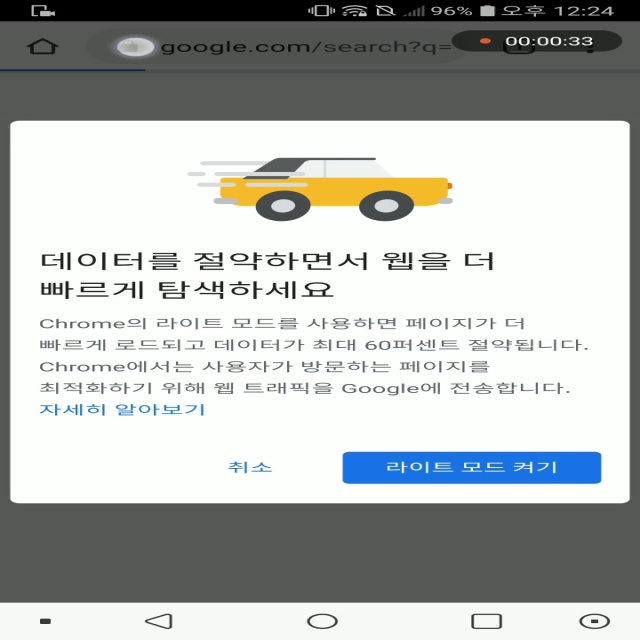Cursor: (112, 36, 157, 59)
